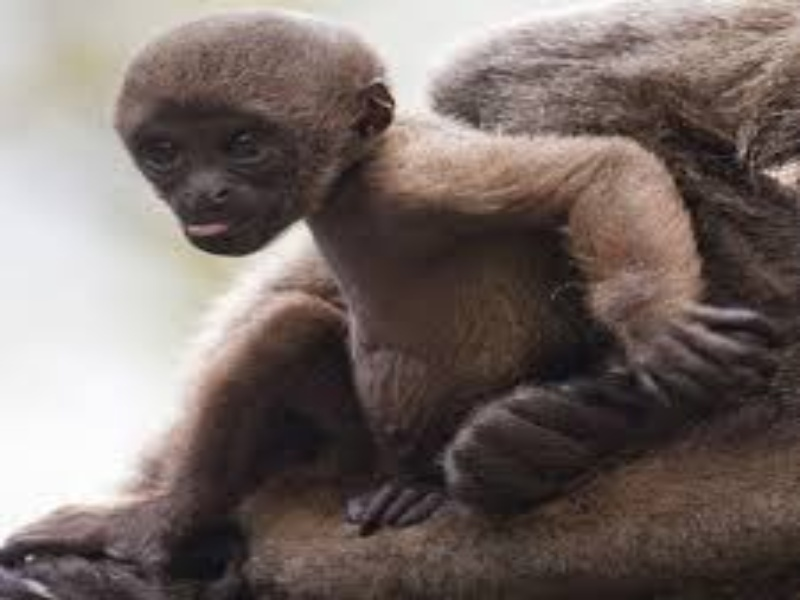monkey: (82, 11, 785, 472)
